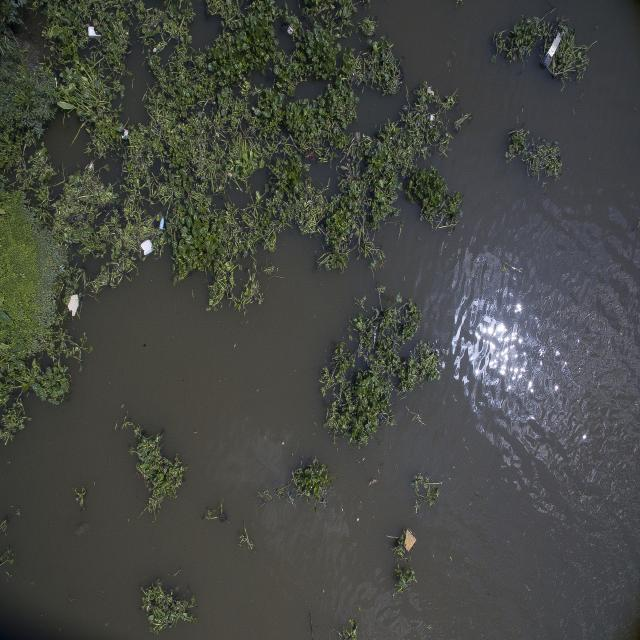plastic: (61, 279, 90, 321), (545, 26, 567, 67), (133, 233, 160, 266), (79, 17, 106, 47), (152, 208, 170, 236)
